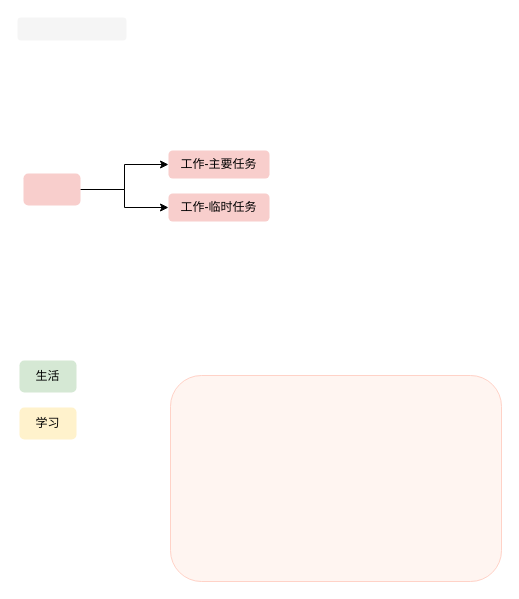
Some shapes in this 519 by 599 pixel diagram are drawn without their labels. Here are the shapes that lost their labels. From the top down, the centre of each, then its label:
At [71,28]: "事情分类".
At [51,189]: "工作".
